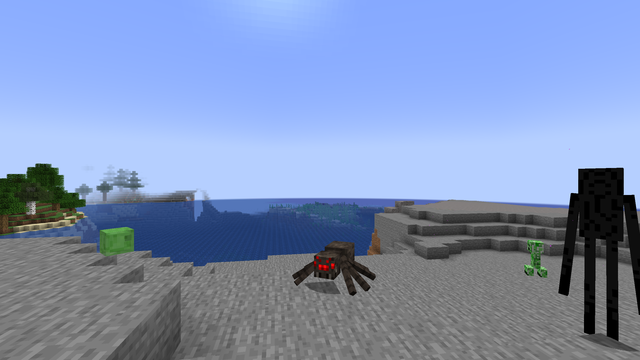araignees: (303, 239, 368, 294)
creepers: (524, 238, 546, 277)
endermens: (566, 162, 637, 345)
slimes: (95, 226, 134, 255)
